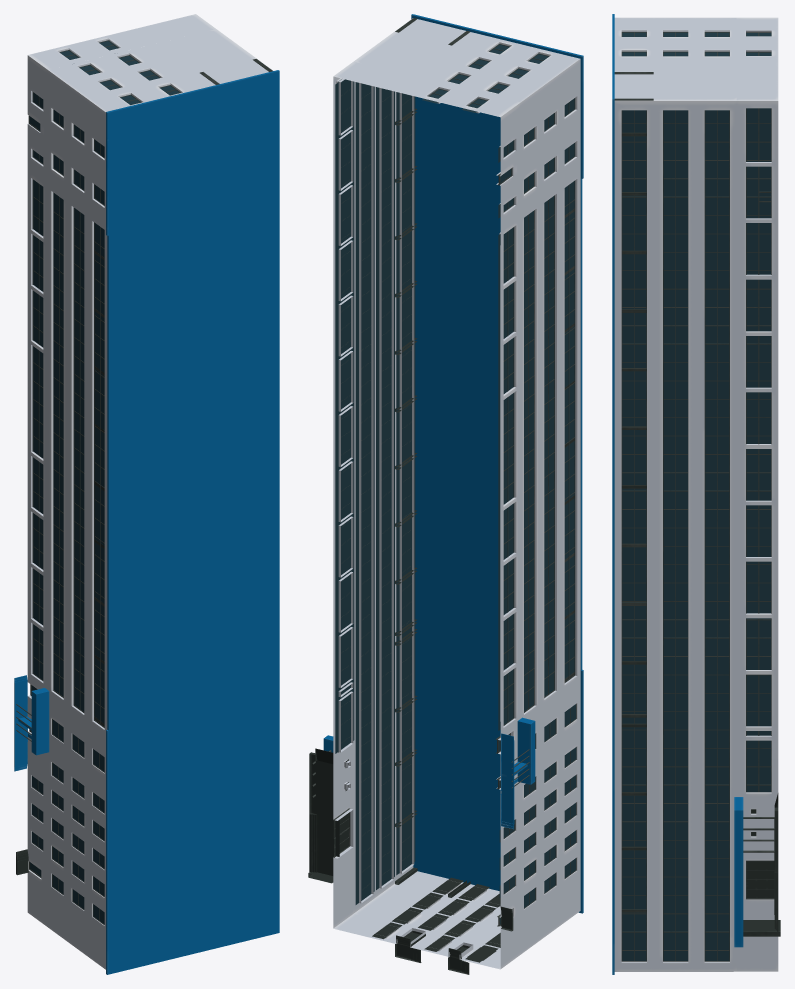
Rendered from Building_12.fbx.
3 renders of one model, left to right at view 1: azimuth 30°, elevation 25°; view 2: azimuth 150°, elevation 25°; view 3: azimuth 270°, elevation 25°, orthographic. The views are drawn at different scales.
Visible parts, largest first — view 1: Building_12; view 2: Building_12; view 3: Building_12.
Part boxes in pixels (<box>): Building_12: <box>14,14,279,974</box>; Building_12: <box>308,14,583,974</box>; Building_12: <box>612,14,780,974</box>.
Bounding box in the file's own units: 1885 × 7541 × 1299.
